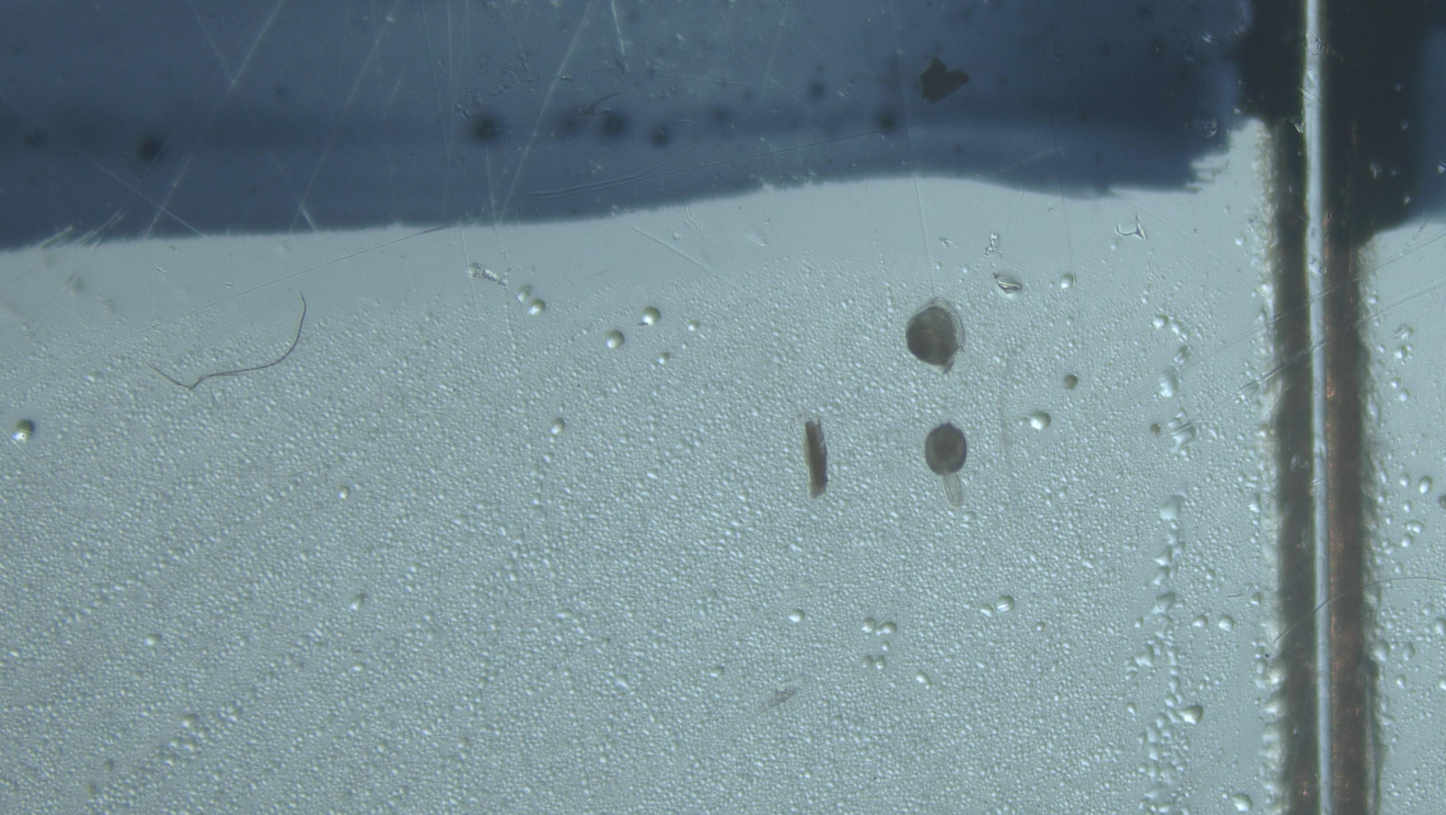live: (925, 423, 968, 507), (906, 304, 960, 368)
